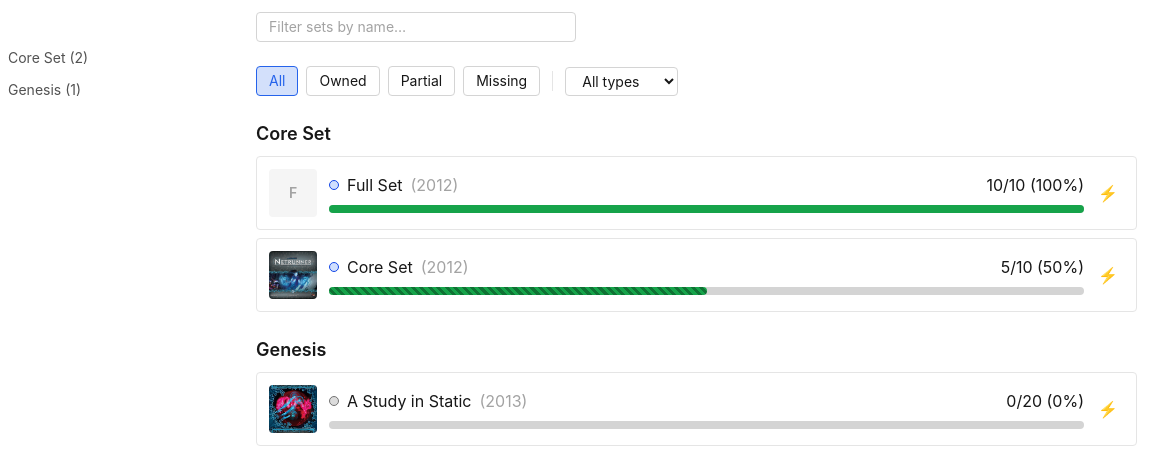
it: SetProgressList › the "Owned" filter shows only fully-owned sets, excluding partial and missing
Step 1. Click the button "Owned" → (343, 81), box [306,66,380,96]
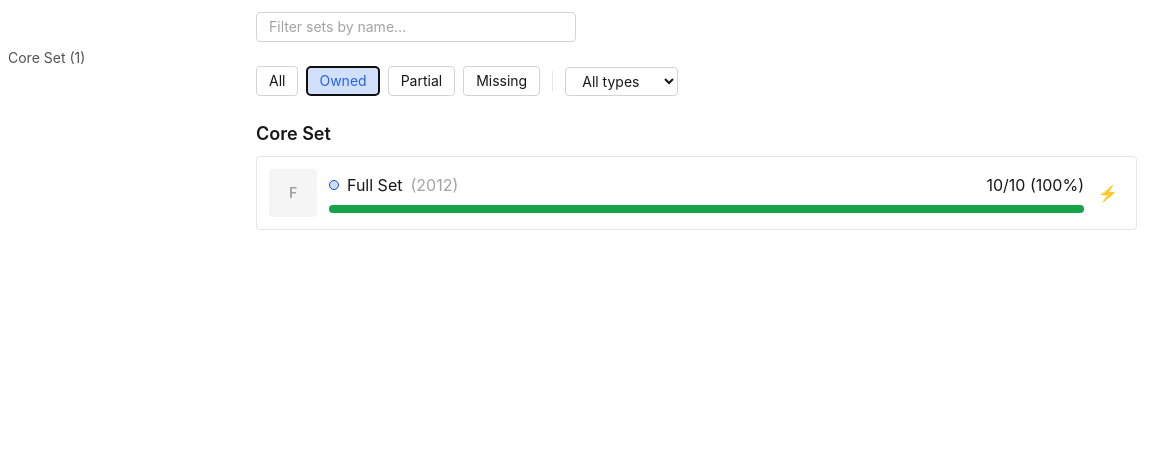
Check: the text "Full Set" is shown, box [347,175,402,195]
Check: the link "A Study in Static" is gone
